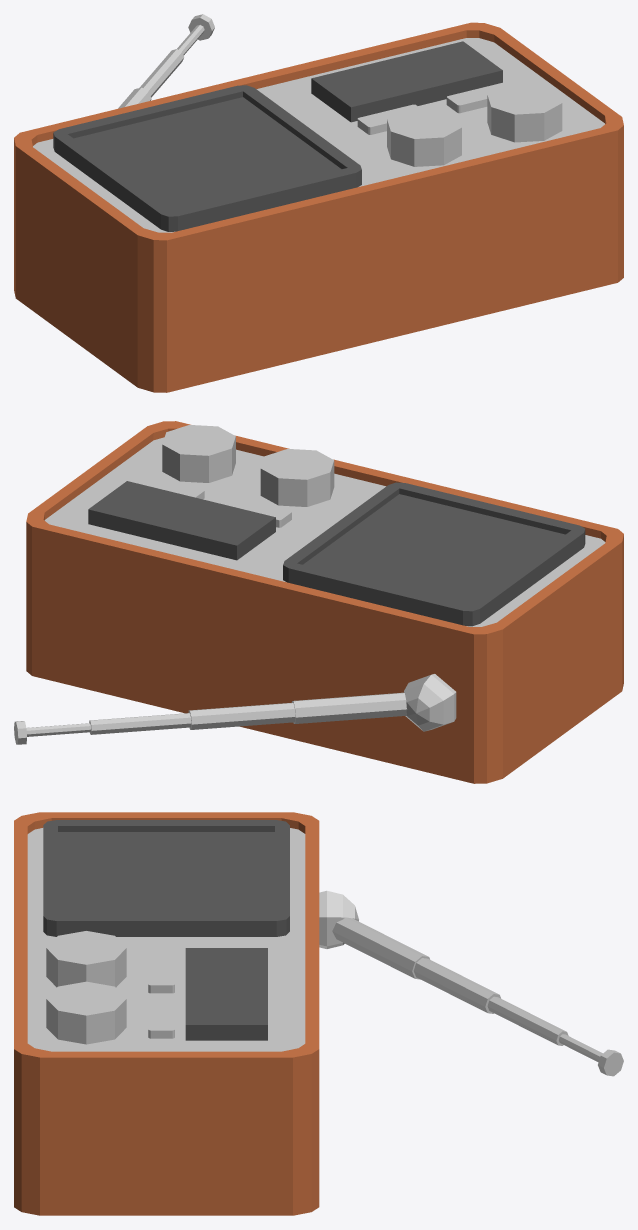
The model's file is MDL_Radio_Fixed.fbx.
The picture shows the model from 3 angles, top to bottom: view 1: azimuth 30°, elevation 25°; view 2: azimuth 150°, elevation 25°; view 3: azimuth 270°, elevation 25°; orthographic projection. The views are drawn at different scales.
Parts seen in each view (by area): view 1: Sphere, Cylinder.001, Cylinder, Cylinder.002, Cube.004, Cube.003; view 2: Sphere, Cylinder.002, Cylinder, Cylinder.001, Cube.003, Cube.004; view 3: Sphere, Cylinder.002, Cylinder.001, Cylinder, Cube.003, Cube.004.
Boxes of the visible parts, <box> form: Sphere: <box>14,22,623,392</box>; Cylinder.001: <box>487,83,562,142</box>; Cylinder: <box>387,107,461,166</box>; Cylinder.002: <box>118,14,214,108</box>; Cube.004: <box>446,82,506,113</box>; Cube.003: <box>357,104,419,134</box>; Sphere: <box>26,421,623,783</box>; Cylinder.002: <box>14,692,407,744</box>; Cylinder: <box>260,449,334,506</box>; Cylinder.001: <box>162,425,235,482</box>; Cube.003: <box>226,498,291,527</box>; Cube.004: <box>139,476,204,499</box>; Sphere: <box>14,812,358,1215</box>; Cylinder.002: <box>332,917,623,1076</box>; Cylinder.001: <box>46,981,126,1044</box>; Cylinder: <box>46,931,126,987</box>; Cube.003: <box>148,956,174,993</box>; Cube.004: <box>148,1001,174,1038</box>.
Bounding box in the file's own units: 290 × 98.66 × 304.
